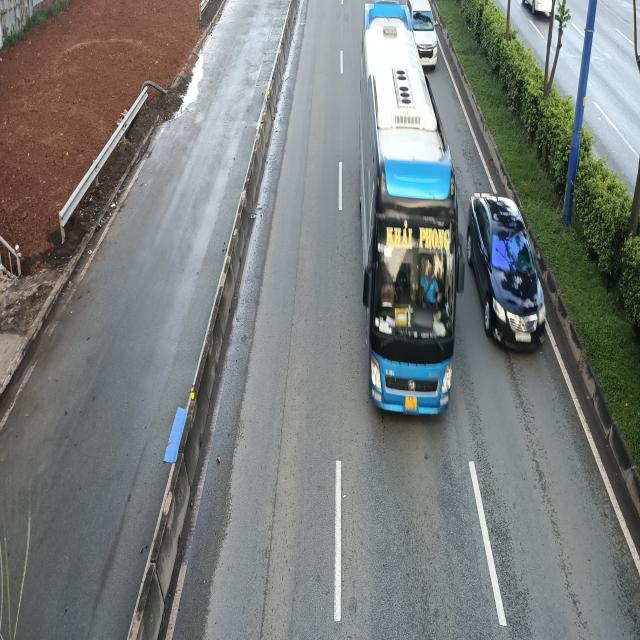car: (468, 194, 547, 349)
coach: (360, 6, 464, 422)
